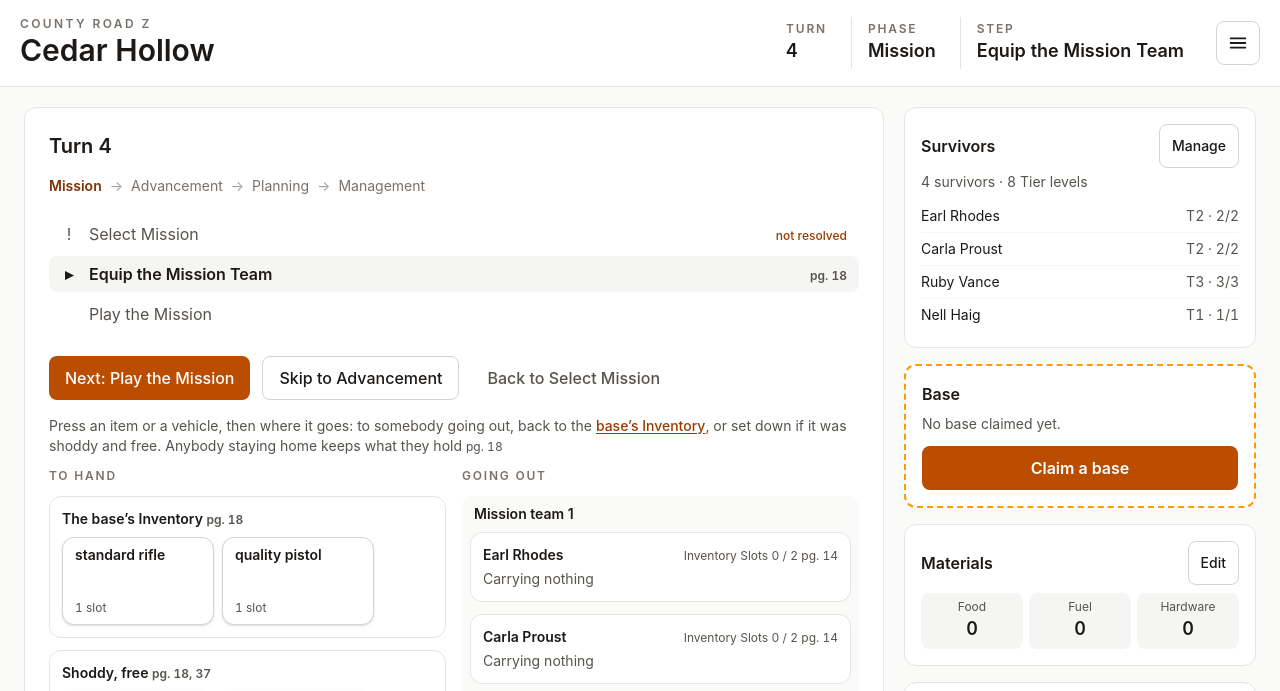
Equip Mission Team (pg. 18; Z5-4) › offers a move only where the item is not already, and a second press puts it down
What coordinates should you click on to do the following:
click the button "quality pistol 1 slot"
I would click on:
 (298, 580)
Its box is left=222, top=536, right=374, bottom=624.
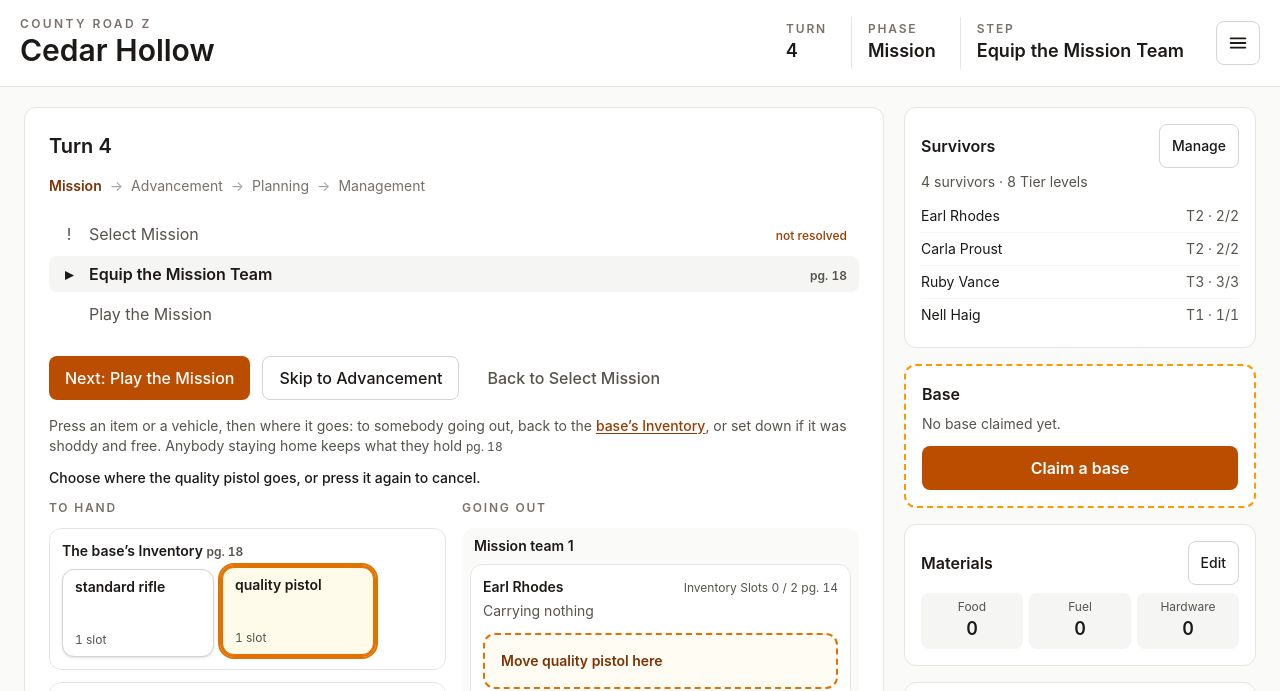
Check: the message shows "Choose where the quality pistol goes", box left=49, top=468, right=481, bottom=486
What coordinates should you click on to do the following:
click the button "quality pistol 1 slot"
I would click on:
 (298, 610)
Its box is left=222, top=566, right=374, bottom=654.
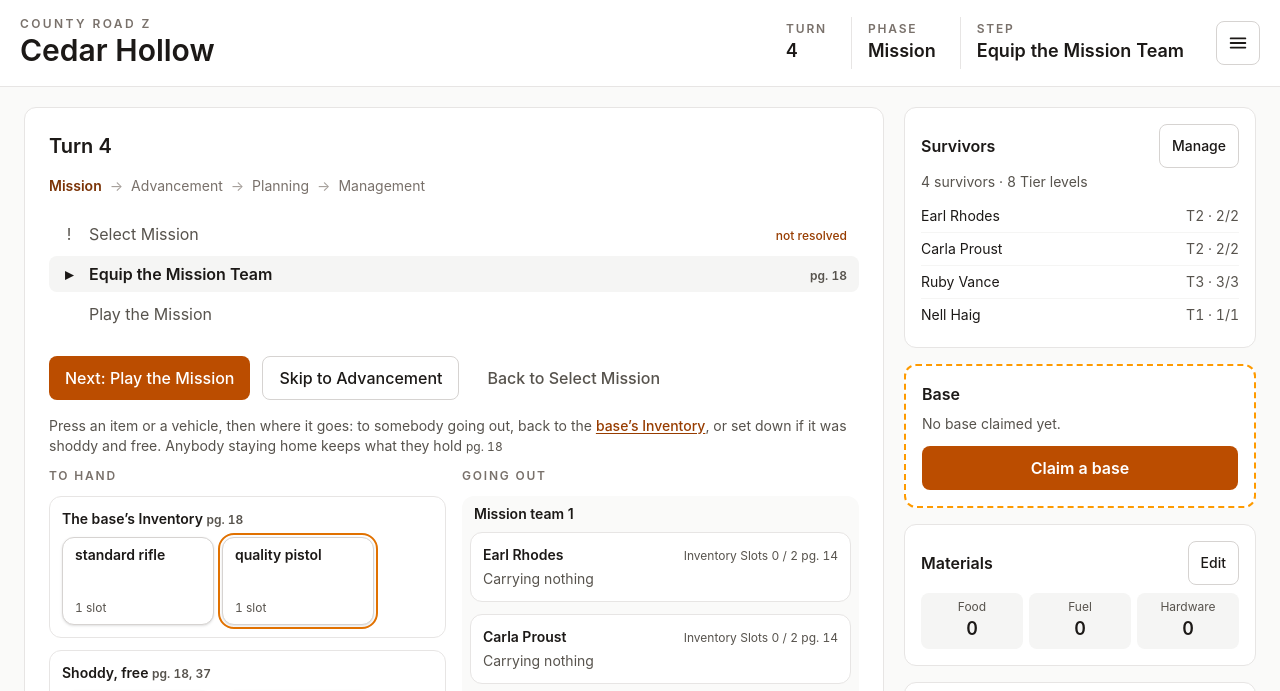
Check: the message "Choose where the quality pistol goes, or press it again to cancel." is gone
